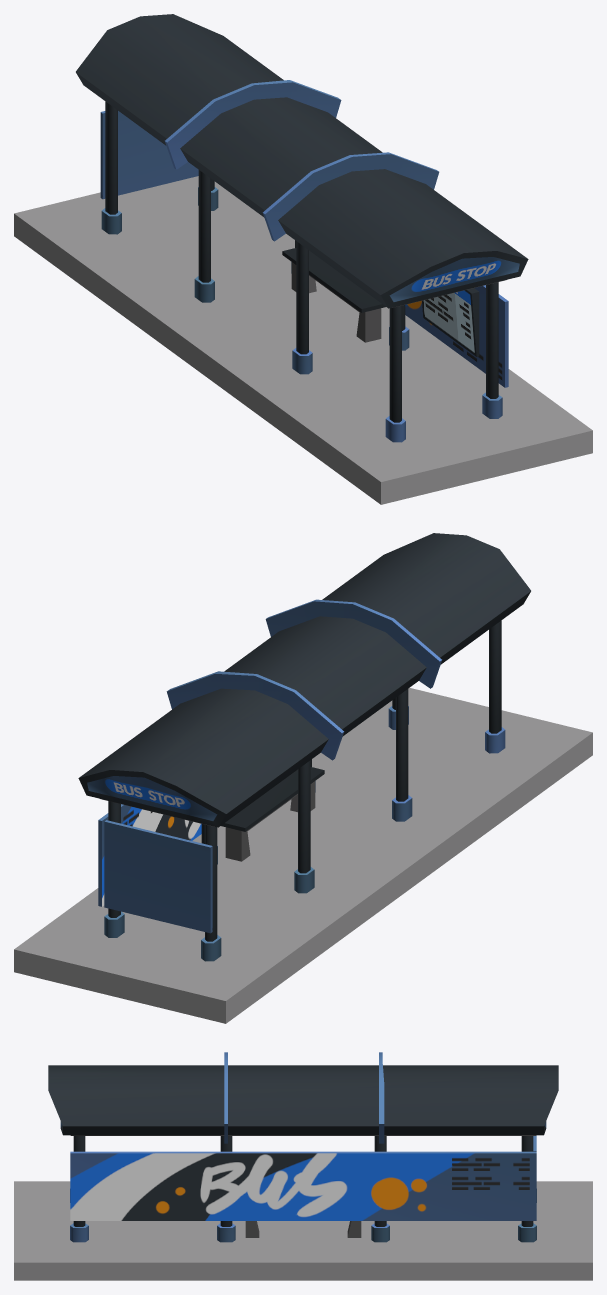
The model's file is BusStop1.fbx.
3 renders of one model, top to bottom at view 1: azimuth 30°, elevation 25°; view 2: azimuth 150°, elevation 25°; view 3: azimuth 270°, elevation 25°, orthographic. The views are drawn at different scales.
Parts seen in each view (by area): view 1: BusStop1; view 2: BusStop1; view 3: BusStop1.
Part boxes in pixels (x1,y1,x2,y2): BusStop1: [14, 14, 592, 504]; BusStop1: [14, 533, 592, 1023]; BusStop1: [14, 1052, 592, 1280].
Bounding box in the file's own units: 4 × 4.06 × 12.
